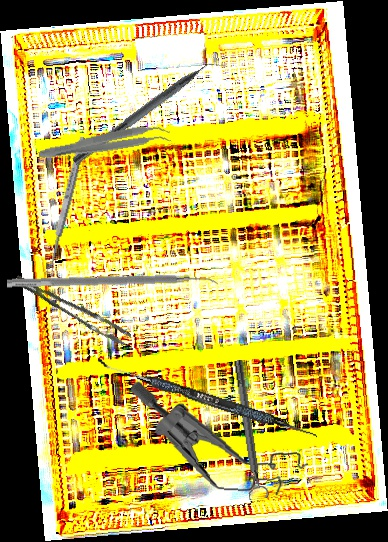Chopper: (71, 49, 229, 176)
Fixation Ring: (227, 358, 271, 501)
Spatula Surgical: (94, 358, 320, 440), (6, 271, 219, 297)
Speculum: (124, 380, 313, 500)
Surgical Spoon: (43, 136, 88, 277)
Tissue Forceps: (13, 260, 132, 357), (37, 120, 172, 169)
